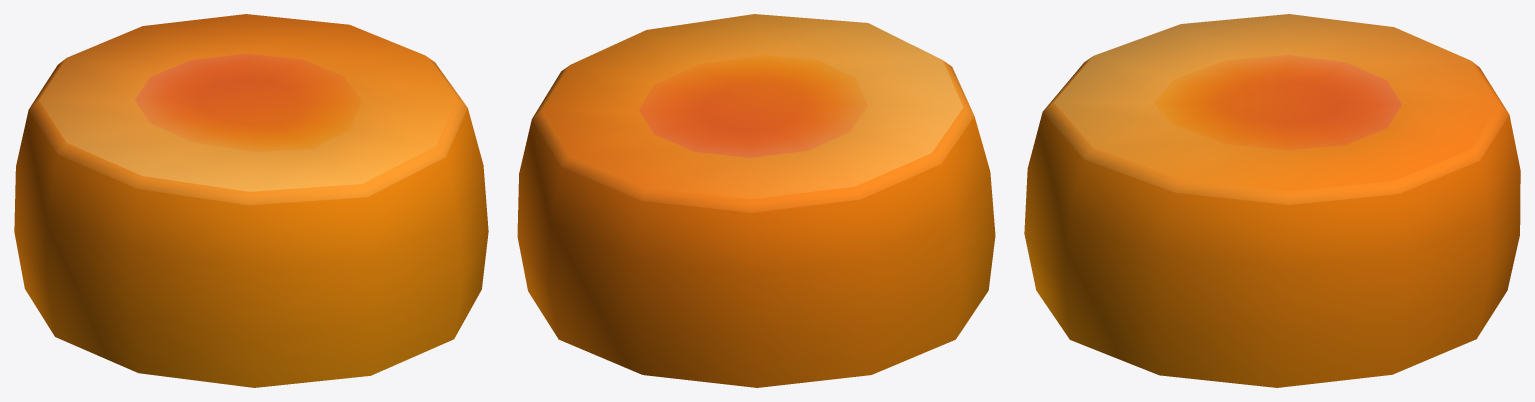
File: carrot_004.fbx
The picture shows the model from 3 angles, left to right: view 1: azimuth 30°, elevation 25°; view 2: azimuth 150°, elevation 25°; view 3: azimuth 270°, elevation 25°; orthographic projection.
Visible parts, largest first — view 1: carrot_004; view 2: carrot_004; view 3: carrot_004.
Boxes of the visible parts, bbox=[...] form: carrot_004: bbox=[14, 14, 488, 387]; carrot_004: bbox=[517, 14, 995, 387]; carrot_004: bbox=[1024, 14, 1520, 387].
Size of the model in its own units: 6.18 by 6.41 by 2.69.
